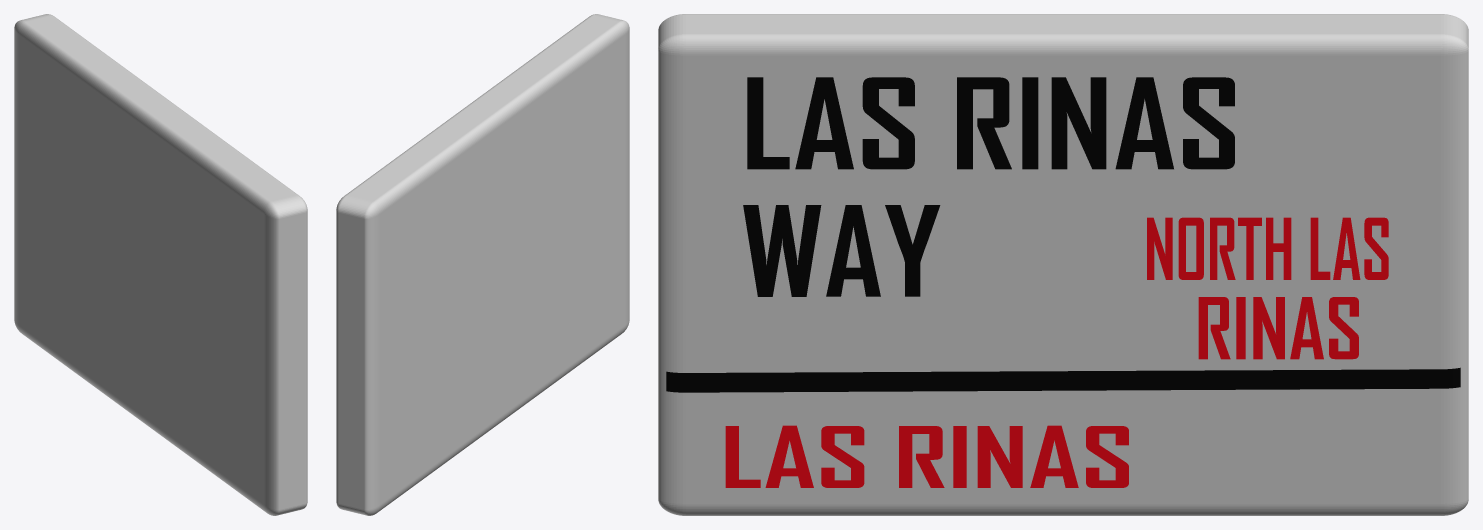
Rendered from uk_styled_street_sign_24.fbx.
3 renders of one model, left to right at view 1: azimuth 30°, elevation 25°; view 2: azimuth 150°, elevation 25°; view 3: azimuth 270°, elevation 25°, orthographic. The views are drawn at different scales.
Visible parts, largest first — view 1: Cube; view 2: Cube; view 3: Cube, Text, Text.002, Text.001, Text.003, Text.004.
Part boxes in pixels (<box>): Cube: <box>14,14,307,515</box>; Cube: <box>336,14,629,515</box>; Cube: <box>658,14,1468,515</box>; Text: <box>747,77,1234,169</box>; Text.002: <box>725,425,1128,487</box>; Text.001: <box>743,205,940,296</box>; Text.003: <box>1147,217,1388,279</box>; Text.004: <box>1198,297,1358,359</box>.
Size of the model in its own units: 1.63 by 11.91 by 18.18.
